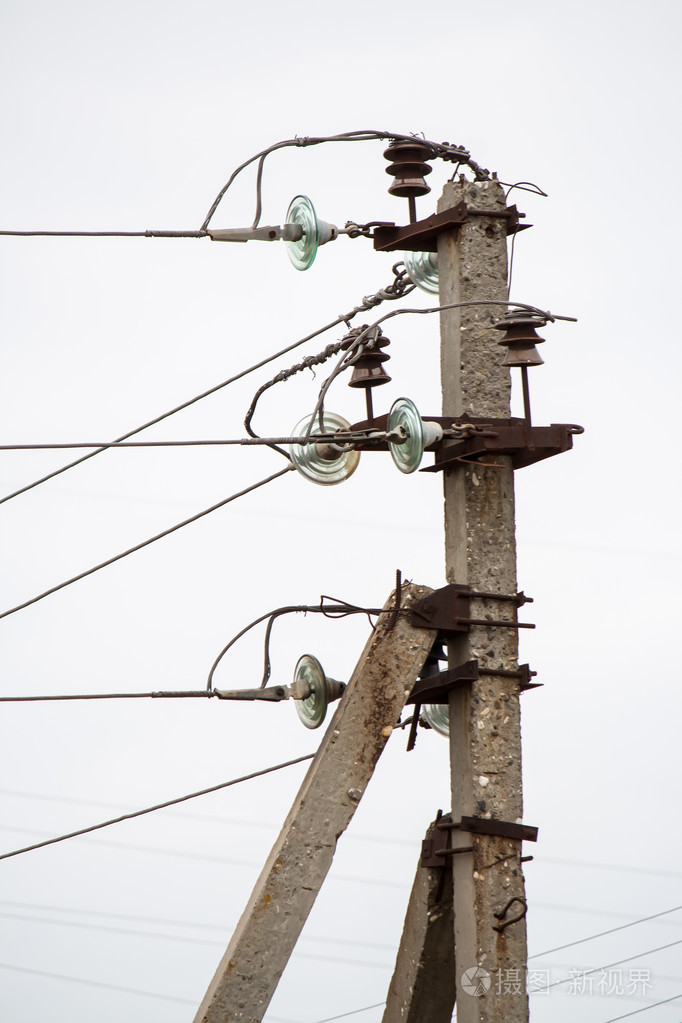insulator: (289, 412, 360, 485), (378, 135, 434, 200), (378, 395, 424, 474), (496, 313, 553, 369), (287, 655, 331, 726), (280, 195, 321, 268), (346, 332, 391, 388), (405, 246, 444, 294)
